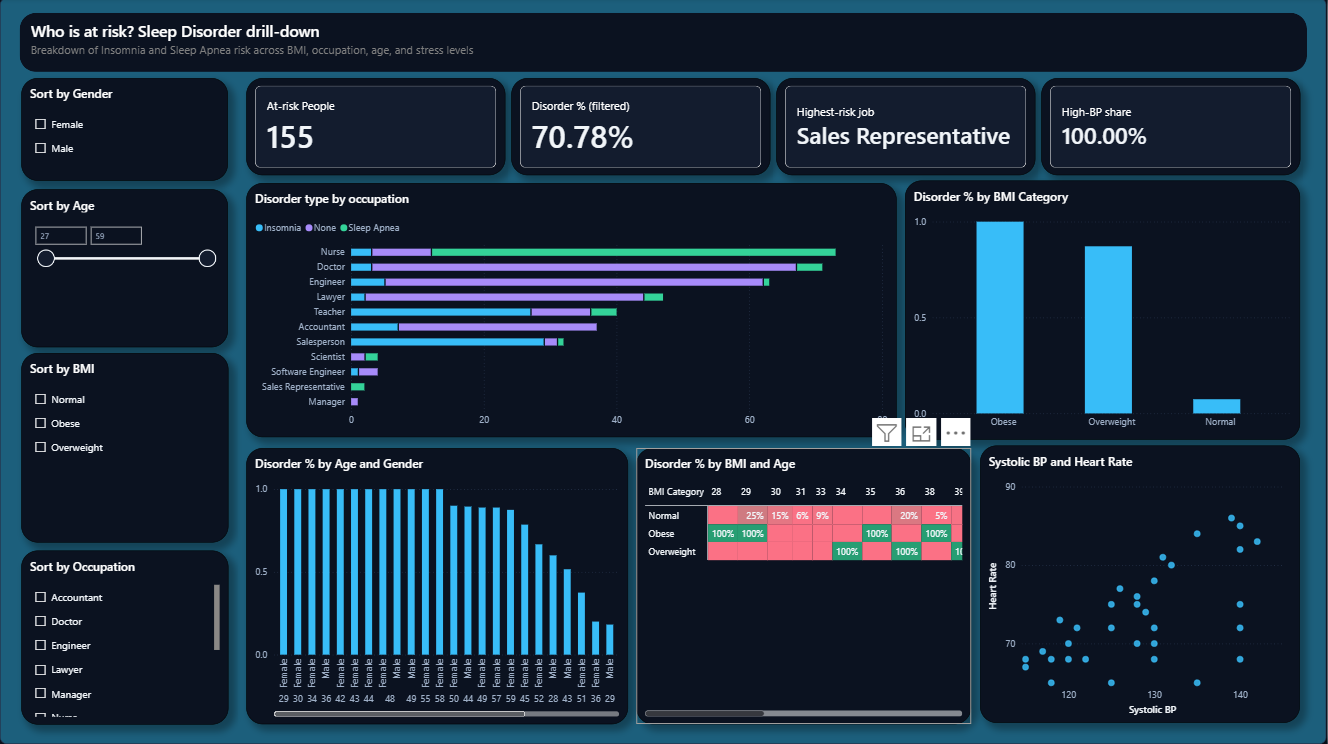

What the dashboard file says about the page in this screenshot:
{"tool":"powerbi","page":{"name":"Risk Details","canvas":[1920,1080],"ordinal":1},"visuals":[{"type":"image","box":[0,0,1920,1080],"z":0},{"type":"shape","box":[16.4,10,1888,106],"z":1000},{"type":"slicer","title":"Sort by Gender","fields":{"Values":["Sleep_health_and_lifestyle_dataset csv.Gender"]},"box":[31.5,115.4,299.1,149.1],"z":2000},{"type":"slicer","title":"Sort by Age","fields":{"Values":["Sleep_health_and_lifestyle_dataset csv.Age"]},"box":[31.1,277.8,298.9,228.9],"z":3000},{"type":"slicer","title":"Sort by BMI","fields":{"Values":["Sleep_health_and_lifestyle_dataset csv.BMI Category"]},"box":[31.4,514.3,300,274.3],"z":4000},{"type":"slicer","title":"Sort by Occupation","fields":{"Values":["Sleep_health_and_lifestyle_dataset csv.Occupation"]},"box":[31,799,300,252],"z":5000},{"type":"textbox","title":"Who is at risk? Sleep Disorder drill-down","box":[32,22,746,84],"z":6000},{"type":"cardVisual","fields":{"Data":["Sleep.At-risk People"]},"box":[357,116,375,141],"z":7000},{"type":"cardVisual","fields":{"Data":["Sleep.Disorder % (filtered)"]},"box":[740,115,375,141],"z":8000},{"type":"cardVisual","fields":{"Data":["Min(Sleep.Occupation)"]},"box":[1123,115,375,141],"z":9000},{"type":"cardVisual","fields":{"Data":["Sleep.High-BP share"]},"box":[1507,115,375,141],"z":10000},{"type":"barChart","title":"Disorder type by occupation","fields":{"Category":["Sleep.Occupation"],"Series":["Sleep.Sleep Disorder"],"Y":["CountNonNull(Sleep.Sleep Disorder)"]},"box":[357,267,941.7,368.3],"z":11000},{"type":"columnChart","fields":{"Category":["Sleep.BMI Category"],"Y":["Sleep.Disorder %"]},"box":[1310,263.3,571.7,375],"z":12000},{"type":"clusteredColumnChart","fields":{"Category":["Sleep.Age","Sleep.Gender"],"Y":["Sleep.Disorder %"]},"box":[357,651,553,400],"z":13000},{"type":"pivotTable","title":"Disorder % by BMI and Age","fields":{"Columns":["Sleep.Age"],"Rows":["Sleep.BMI Category"],"Values":["Sleep.Disorder %"]},"box":[921,651,485,400],"z":14000},{"type":"scatterChart","fields":{"X":["Sleep.Systolic BP"],"Y":["Sleep.Heart Rate"]},"box":[1418.6,648.6,462.9,401.4],"z":14001}]}

Visuals, with their boxes in screenshot pixels (x1, y1, x2, y2), scaled from the page's 1920x1080 canvas onto the 1328x744 screenshot:
image: 0 0 1327 743
shape: 11 7 1317 80
"Sort by Gender" slicer: 22 79 229 182
"Sort by Age" slicer: 22 191 228 349
"Sort by BMI" slicer: 22 354 229 543
"Sort by Occupation" slicer: 21 550 229 724
"Who is at risk? Sleep Disorder drill-down" textbox: 22 15 538 73
cardVisual - Sleep.At-risk People: 247 80 506 177
cardVisual - Sleep.Disorder % (filtered): 512 79 771 176
cardVisual - Min(Sleep.Occupation): 777 79 1036 176
cardVisual - Sleep.High-BP share: 1042 79 1302 176
"Disorder type by occupation" barChart: 247 184 898 438
columnChart - Sleep.BMI Category x Sleep.Disorder %: 906 181 1302 440
clusteredColumnChart - Sleep.Age x Sleep.Gender: 247 448 629 724
"Disorder % by BMI and Age" pivotTable: 637 448 972 724
scatterChart - Sleep.Systolic BP x Sleep.Heart Rate: 981 447 1301 723
